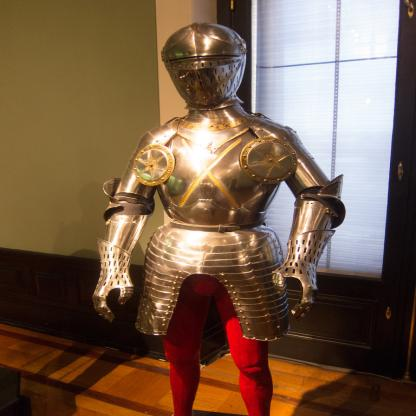Helmet: (160, 23, 246, 109)
